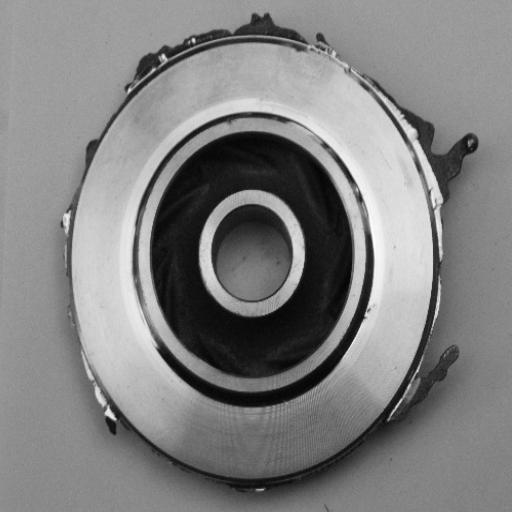casting_with_burr: (55, 9, 481, 496)
